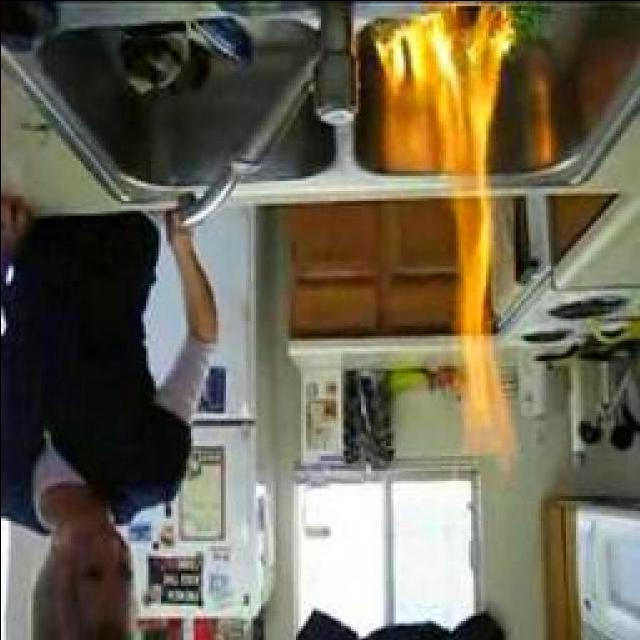Fire: (378, 7, 522, 479)
